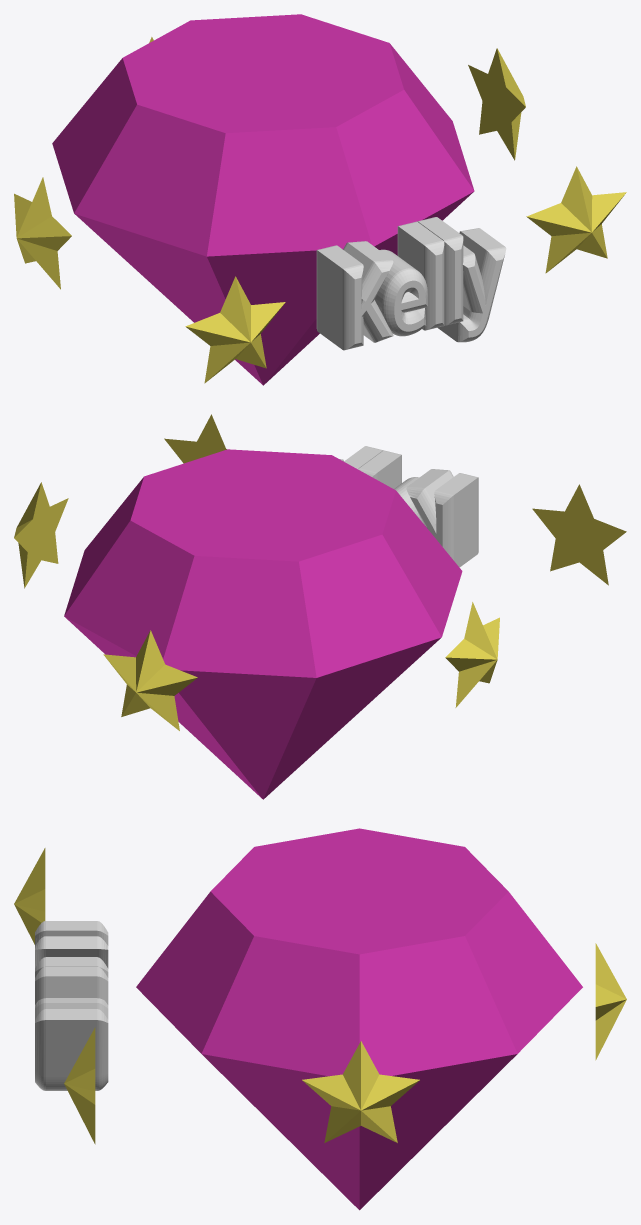
File: gem_kelly.glb
3 views of the same model, one above another, from view 1: azimuth 30°, elevation 25°; view 2: azimuth 150°, elevation 25°; view 3: azimuth 270°, elevation 25° (orthographic). The views are drawn at different scales.
Visible parts, largest first — view 1: Mesh_Mesh_head_geo.001_lambert2SG.001; view 2: Mesh_Mesh_head_geo.001_lambert2SG.001; view 3: Mesh_Mesh_head_geo.001_lambert2SG.001.
Part boxes in pixels (x1=…): Mesh_Mesh_head_geo.001_lambert2SG.001: x1=14, y1=14, x2=626, y2=385; Mesh_Mesh_head_geo.001_lambert2SG.001: x1=14, y1=414, x2=626, y2=799; Mesh_Mesh_head_geo.001_lambert2SG.001: x1=14, y1=828, x2=626, y2=1210.
Size of the model in its own units: 192 by 113 by 196.
